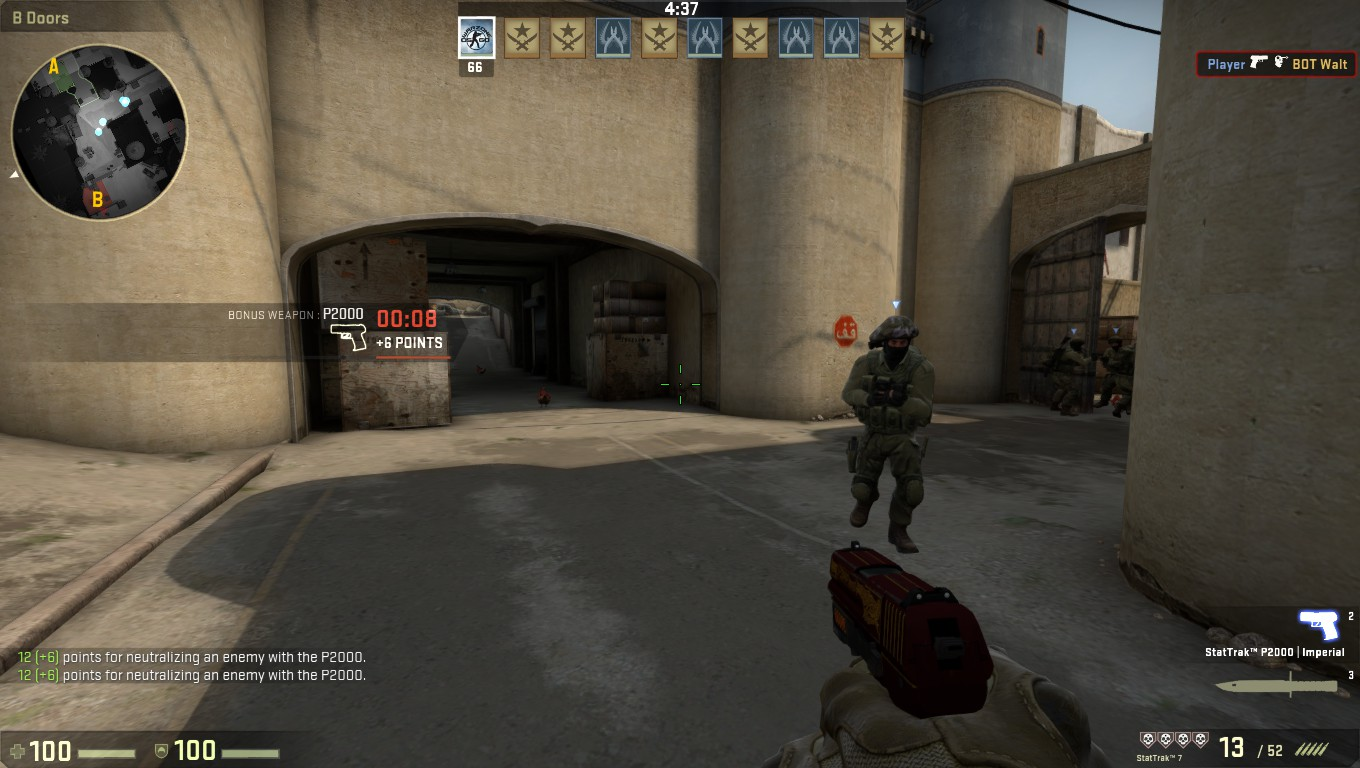c: (840, 313, 940, 553), (1096, 333, 1139, 413), (1052, 334, 1089, 416)
ch: (865, 314, 923, 369), (1066, 337, 1088, 357), (1104, 334, 1126, 353)
